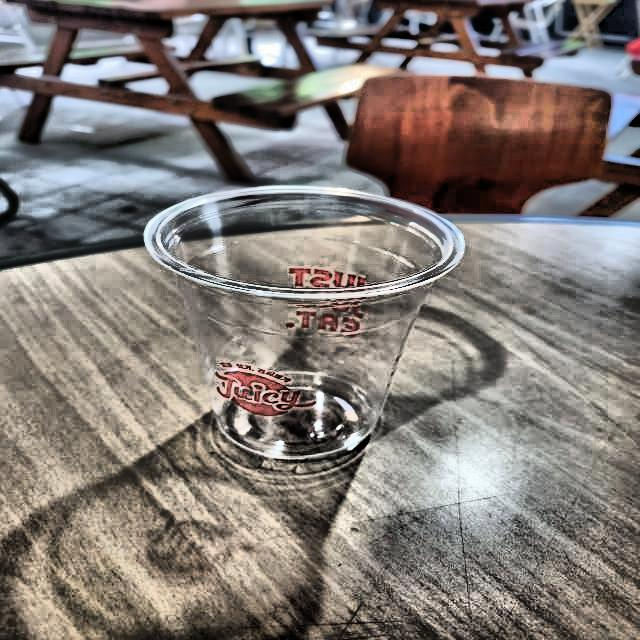plastic cup: (137, 174, 476, 473)
